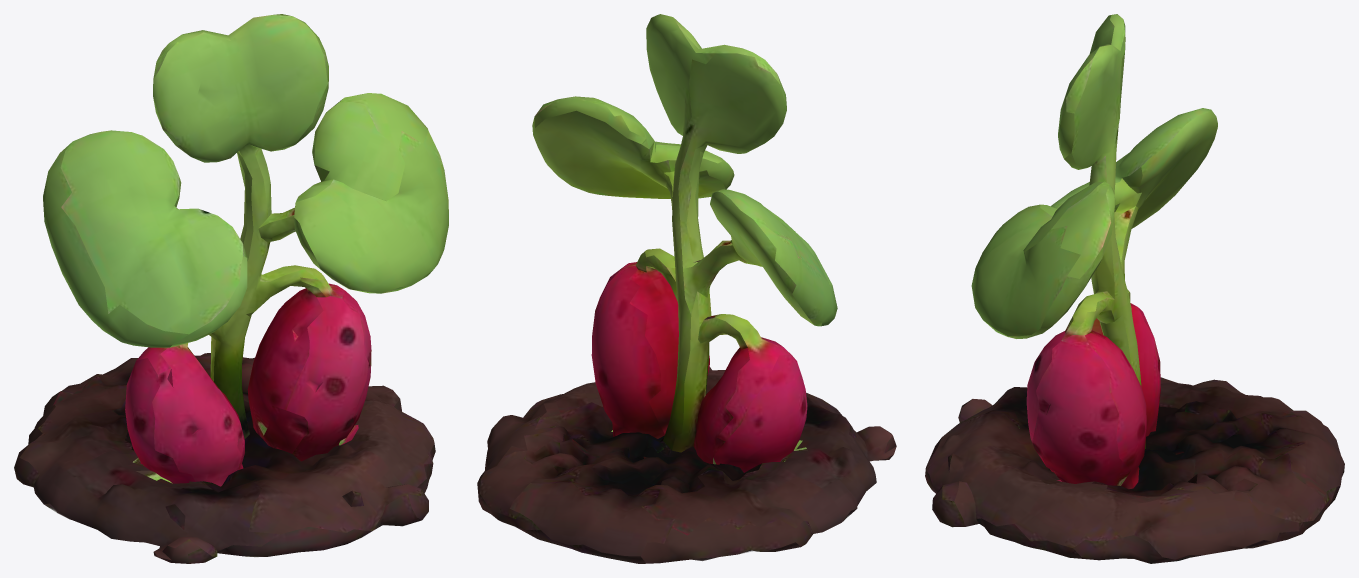
File: crop_sweetpotato.glb
The picture shows the model from 3 angles, left to right: view 1: azimuth 30°, elevation 25°; view 2: azimuth 150°, elevation 25°; view 3: azimuth 270°, elevation 25°; orthographic projection. The views are drawn at different scales.
Visible parts, largest first — view 1: crop_sweetpotato_s15; view 2: crop_sweetpotato_s15; view 3: crop_sweetpotato_s15.
Part boxes in pixels (x1,y1,x2,y2): crop_sweetpotato_s15: (14, 14, 448, 563); crop_sweetpotato_s15: (477, 14, 896, 563); crop_sweetpotato_s15: (925, 14, 1344, 563).
Bounding box in the file's own units: 0.8132 × 1 × 0.8503.
Materials: 1 (1 with a texture image).
